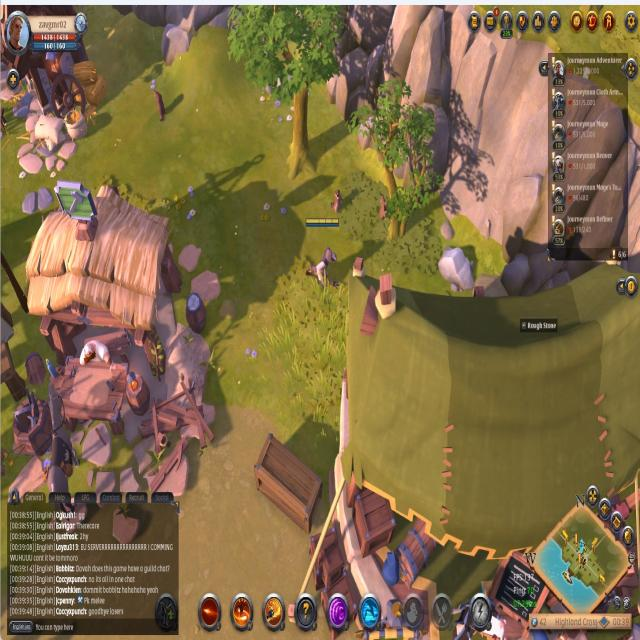stone: (438, 243, 476, 296)
